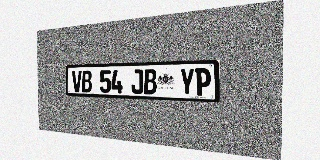4: (111, 70, 123, 93)
5: (100, 70, 111, 93)
B: (144, 69, 157, 94), (82, 70, 92, 92)
J: (131, 69, 143, 94)
P: (195, 68, 211, 96)
V: (72, 70, 82, 92)
Y: (180, 68, 195, 95)
